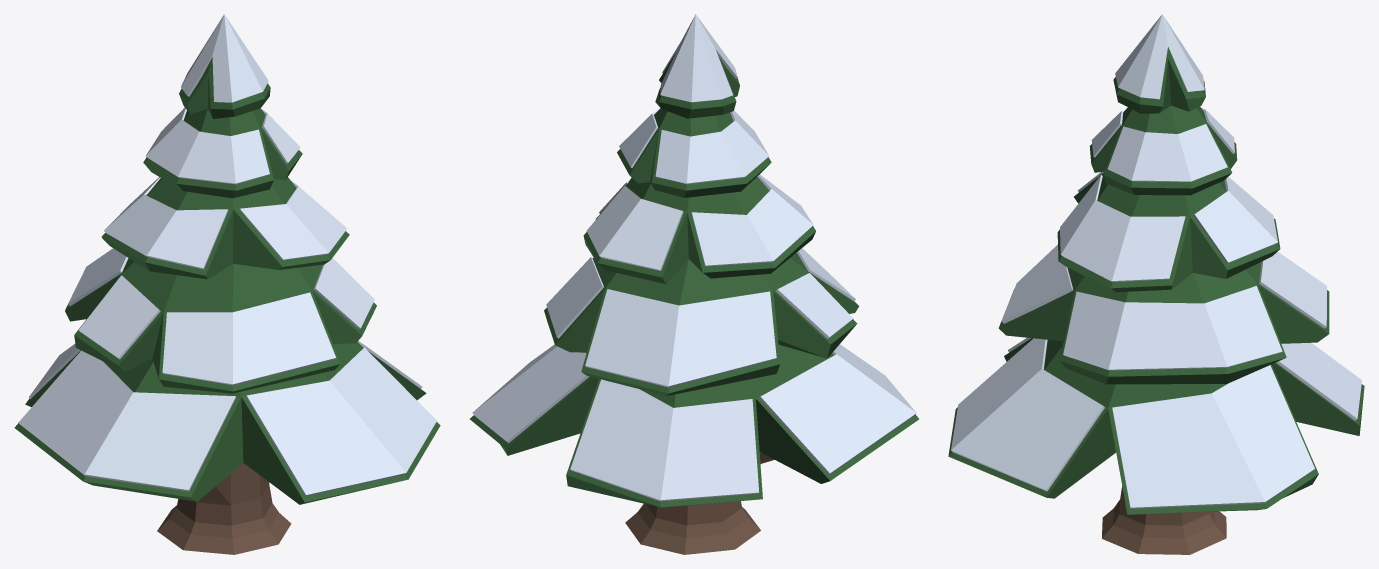
The model's file is Tree1.fbx.
The picture shows the model from 3 angles, left to right: view 1: azimuth 30°, elevation 25°; view 2: azimuth 150°, elevation 25°; view 3: azimuth 270°, elevation 25°; orthographic projection.
Parts seen in each view (by area): view 1: Cylinder; view 2: Cylinder; view 3: Cylinder.
Boxes of the visible parts, x1,y1,x2,y2 form: Cylinder: (14,14,440,554); Cylinder: (470,14,918,554); Cylinder: (948,14,1364,554).
Bounding box in the file's own units: 425 × 568 × 418.
